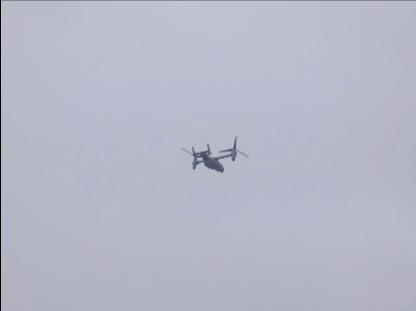Tornado: (181, 136, 249, 172)
